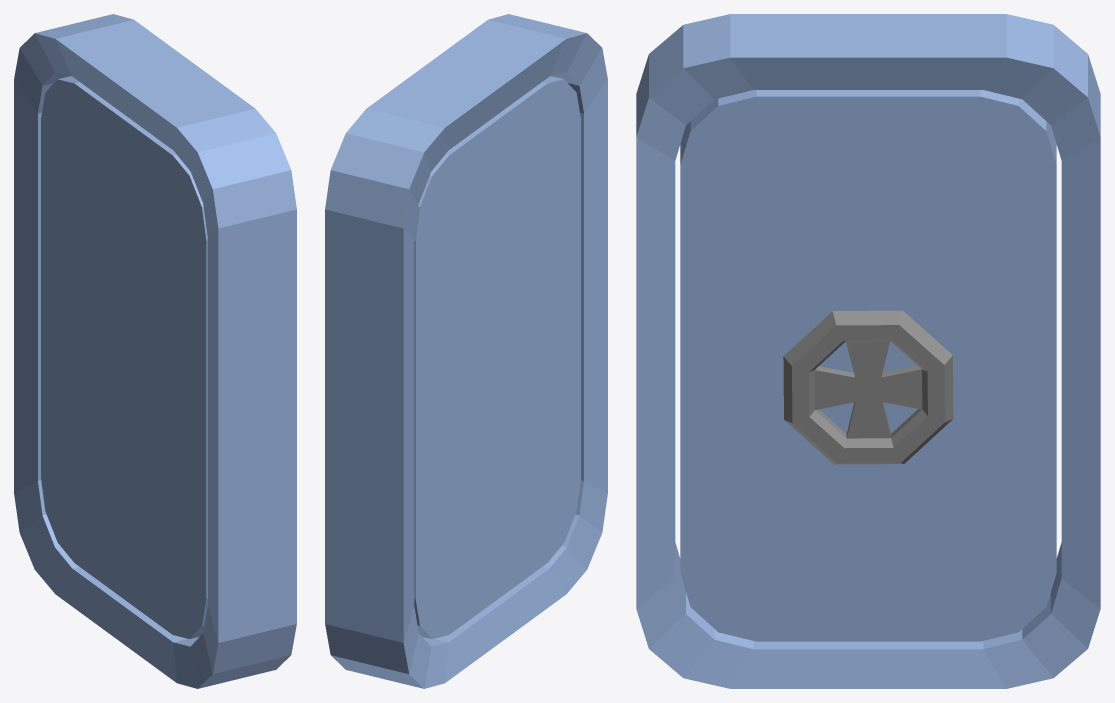
3 views of the same model, side by side, from view 1: azimuth 30°, elevation 25°; view 2: azimuth 150°, elevation 25°; view 3: azimuth 270°, elevation 25° (orthographic). The views are drawn at different scales.
Parts seen in each view (by area): view 1: Cube.001, Cube; view 2: Cube.001, Cube; view 3: Cube, Cube.001, Torus.
Part boxes in pixels (<box>): Cube.001: <box>14,14,296,688</box>; Cube: <box>41,76,207,638</box>; Cube.001: <box>325,14,607,688</box>; Cube: <box>414,76,580,638</box>; Cube: <box>680,90,1056,641</box>; Cube.001: <box>636,14,1100,688</box>; Torus: <box>783,310,953,464</box>.
Size of the model in its own units: 167 by 760 by 507.
